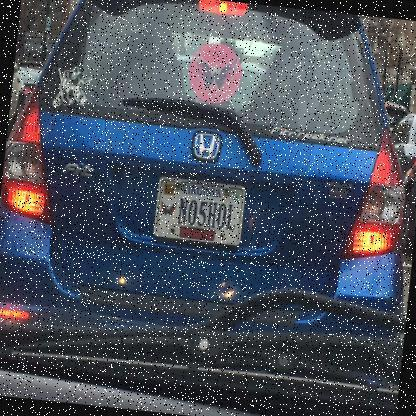License-Plate: (148, 165, 253, 257)
